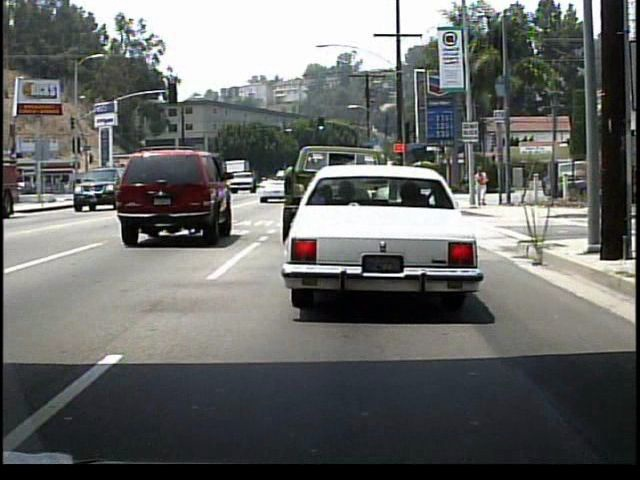person: (475, 167, 490, 209)
